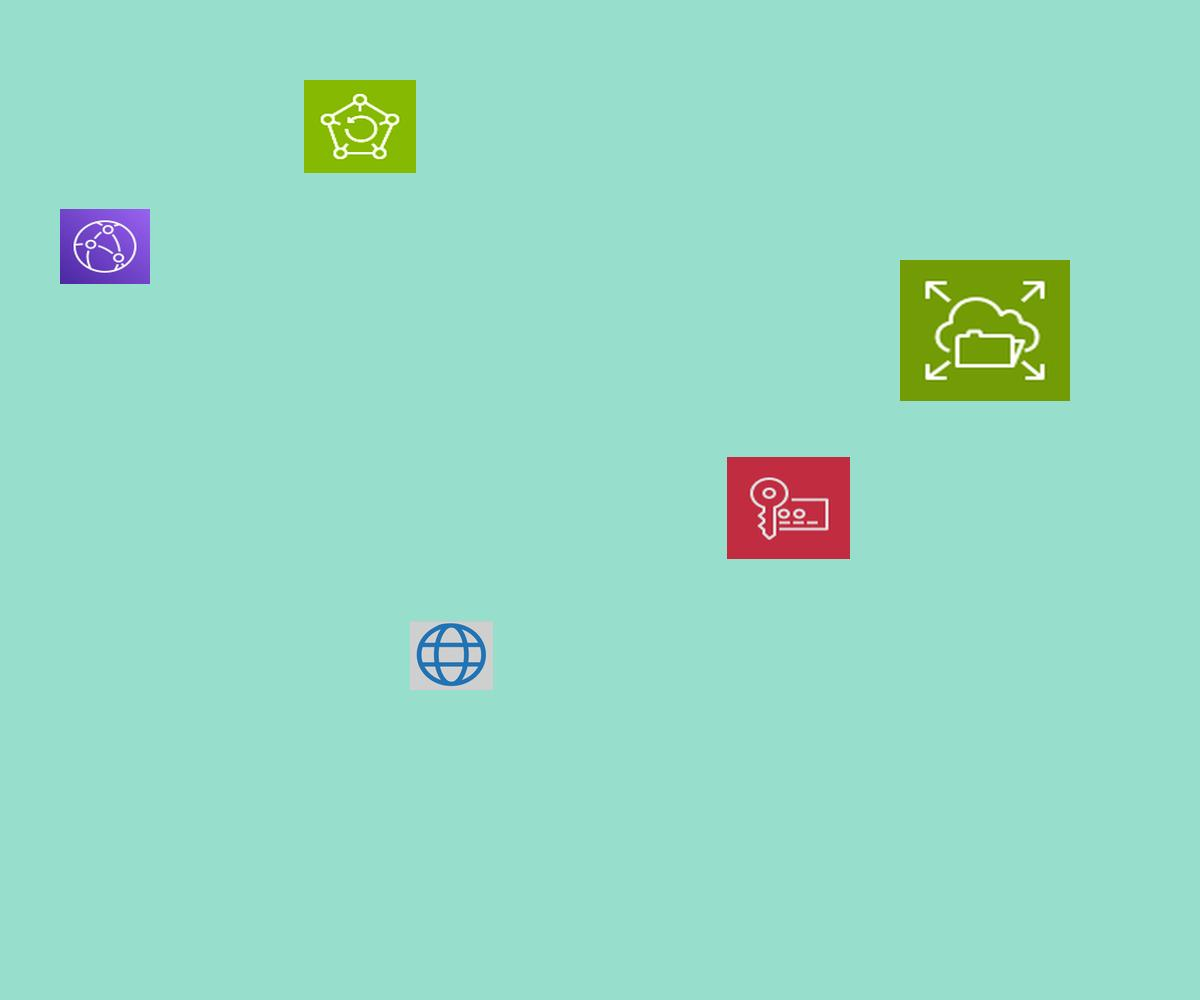AWS-Backup: (304, 80, 416, 173)
AWS-CloudFront: (60, 209, 150, 284)
AWS-EFS: (900, 260, 1070, 401)
AWS-Key-Management-Service: (727, 457, 850, 559)
Azure_http: (410, 621, 493, 690)
